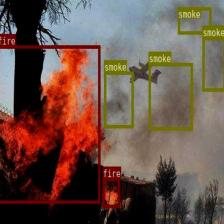fire: (0, 45, 100, 203), (103, 177, 120, 207)
smoke: (148, 62, 193, 130), (104, 71, 133, 128), (201, 36, 224, 90), (178, 6, 211, 34)
